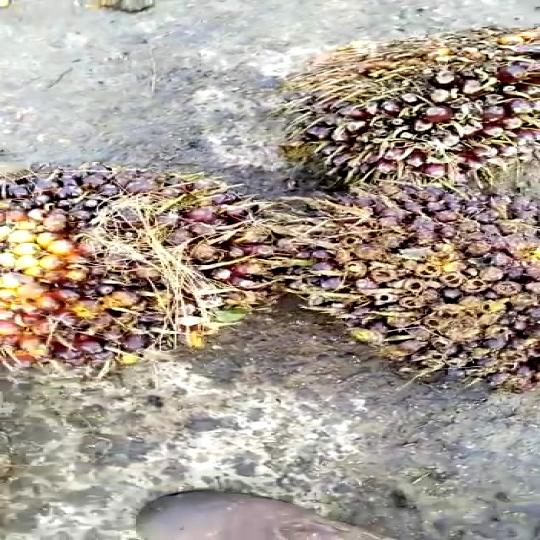kurang masak: (250, 155, 540, 407), (0, 147, 309, 381), (295, 26, 540, 178)
